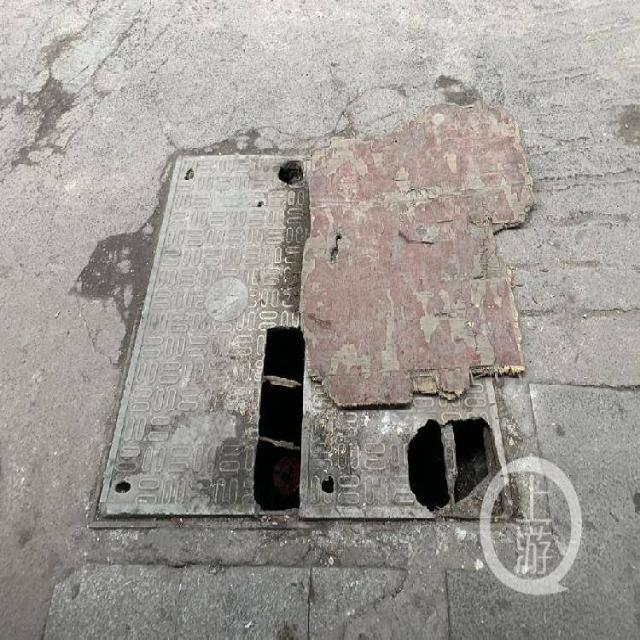manhole: (100, 80, 582, 594)
